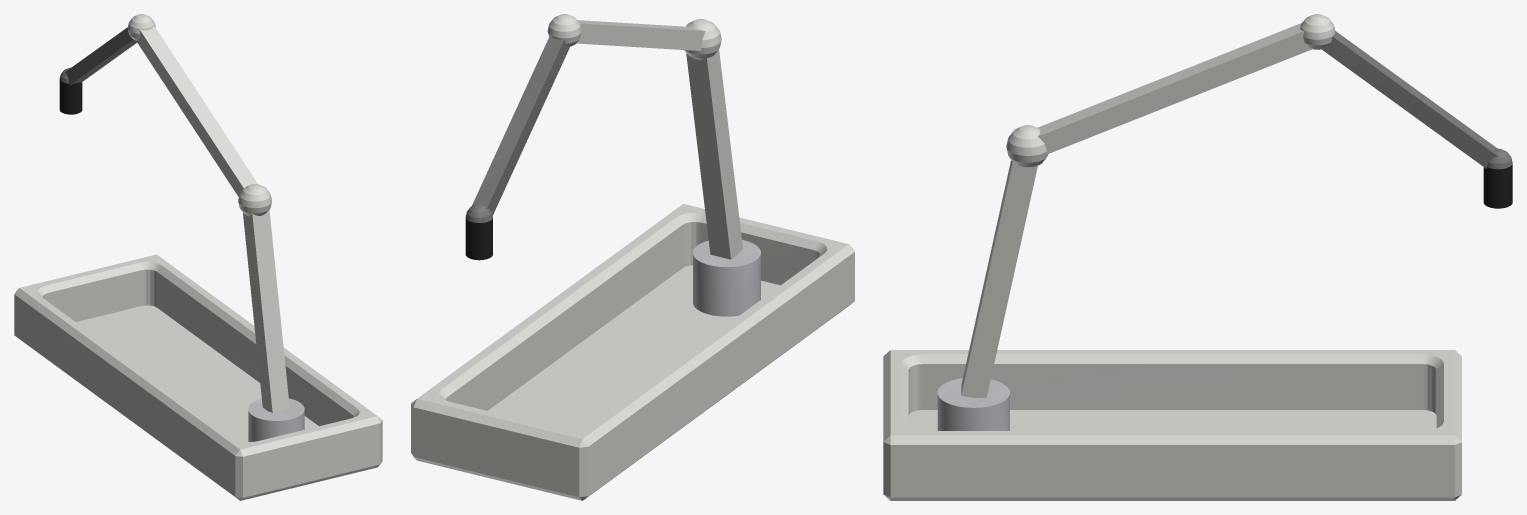
Rendered from ax_rover_22_rover_arm_arm_deployed.glb.
The picture shows the model from 3 angles, left to right: view 1: azimuth 30°, elevation 25°; view 2: azimuth 150°, elevation 25°; view 3: azimuth 270°, elevation 25°; orthographic projection. The views are drawn at different scales.
Visible parts, largest first — view 1: stowage_well, arm_1, arm_2, arm_base, arm_3, arm_end_effector; view 2: stowage_well, arm_1, arm_3, arm_base, arm_2, arm_end_effector; view 3: stowage_well, arm_2, arm_1, arm_3, arm_base, arm_end_effector.
Part boxes in pixels (x1,y1,x2,y2): stowage_well: [14, 254, 382, 500]; arm_1: [238, 184, 289, 412]; arm_2: [127, 14, 257, 196]; arm_base: [248, 398, 304, 441]; arm_3: [59, 27, 136, 85]; arm_end_effector: [59, 80, 82, 114]; stowage_well: [411, 204, 854, 500]; arm_1: [684, 19, 742, 259]; arm_3: [465, 35, 569, 222]; arm_base: [693, 240, 760, 316]; arm_2: [547, 14, 705, 50]; arm_end_effector: [465, 218, 492, 260]; stowage_well: [883, 350, 1461, 500]; arm_2: [1037, 14, 1335, 154]; arm_1: [961, 125, 1048, 397]; arm_3: [1321, 31, 1512, 169]; arm_base: [937, 378, 1009, 430]; arm_end_effector: [1483, 164, 1512, 208].
Size of the model in its own units: 0.6 by 1.35 by 1.74.
Materials: 4 (2 with a texture image).
